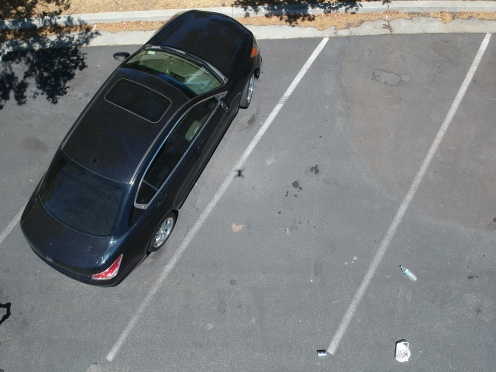bottle: (398, 262, 419, 284)
can: (315, 345, 331, 360)
plastic bag: (389, 335, 415, 366)
